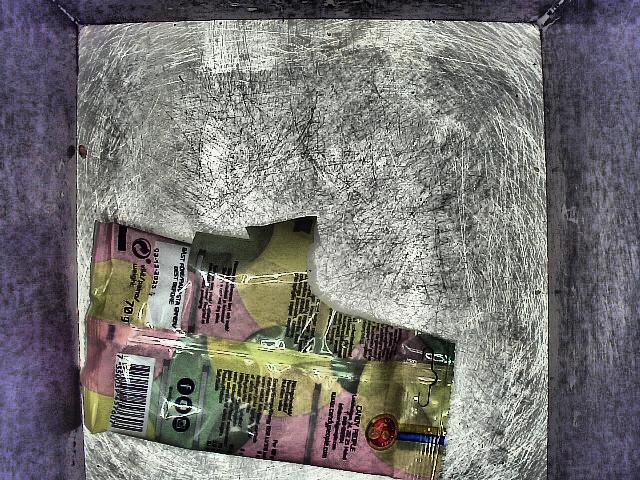Plastic: (78, 202, 453, 480)
